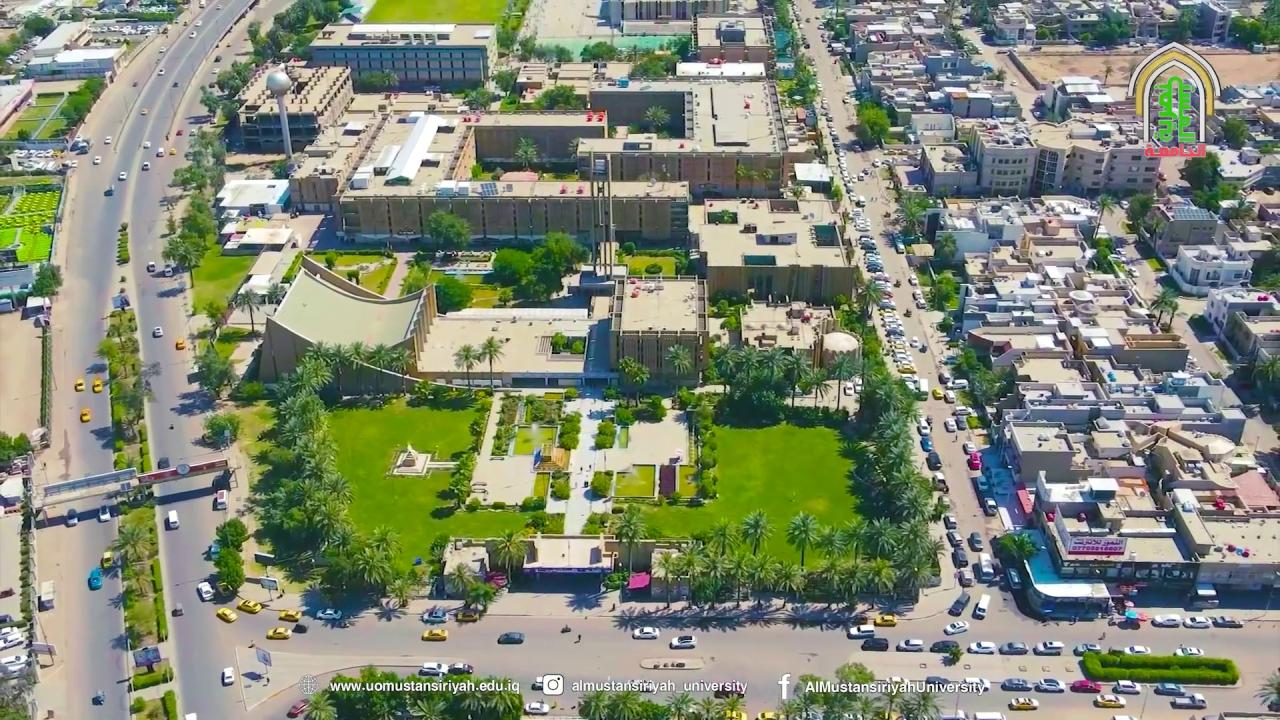car: (1170, 694, 1207, 710), (132, 646, 160, 667), (1093, 693, 1126, 709), (421, 607, 447, 625), (1035, 678, 1065, 693), (1007, 696, 1039, 710), (1070, 679, 1102, 693), (962, 677, 990, 693), (1033, 641, 1064, 655), (1210, 615, 1243, 628), (967, 640, 997, 654), (7, 456, 28, 476), (418, 662, 446, 677), (288, 699, 310, 718), (895, 638, 924, 652), (860, 637, 889, 651), (1112, 680, 1141, 694), (999, 641, 1028, 655), (930, 640, 959, 654), (1183, 615, 1212, 629), (1001, 678, 1032, 691), (455, 607, 480, 623), (196, 581, 215, 602), (846, 625, 874, 639), (237, 599, 263, 614), (1154, 683, 1186, 695), (497, 631, 524, 645), (316, 608, 343, 622), (1073, 643, 1102, 656), (943, 620, 968, 635), (669, 635, 697, 648), (524, 700, 550, 714), (421, 628, 447, 642), (1152, 615, 1182, 627), (387, 707, 417, 719), (632, 626, 659, 639), (87, 569, 103, 590), (1174, 646, 1204, 657), (213, 488, 228, 510), (874, 612, 897, 626), (217, 608, 237, 624), (164, 510, 179, 531), (447, 663, 473, 675), (266, 627, 291, 639), (924, 676, 949, 688), (279, 609, 301, 622), (220, 667, 234, 686), (983, 497, 997, 516), (259, 577, 278, 591), (1124, 644, 1150, 654), (97, 505, 111, 523), (65, 510, 78, 528), (208, 542, 220, 559), (34, 314, 49, 327), (91, 692, 105, 705), (80, 407, 91, 423), (172, 603, 184, 617), (532, 676, 544, 690), (152, 326, 164, 338), (92, 378, 102, 392), (74, 380, 85, 391), (175, 338, 185, 350), (155, 146, 165, 156), (146, 261, 155, 272), (118, 170, 127, 180), (92, 155, 100, 165), (104, 136, 111, 144), (140, 108, 147, 115)
fountain: (612, 460, 658, 500), (514, 420, 556, 452), (446, 264, 494, 276), (534, 471, 554, 499), (613, 420, 632, 446)
tree: (650, 508, 943, 611), (242, 388, 355, 582), (302, 663, 524, 719), (104, 511, 158, 712), (842, 409, 929, 523), (94, 308, 161, 445), (350, 524, 402, 607), (108, 522, 157, 596), (161, 229, 208, 288), (447, 562, 496, 618), (190, 339, 235, 399), (612, 502, 648, 574), (488, 529, 528, 587), (36, 321, 56, 431), (785, 510, 820, 570), (424, 208, 471, 251), (178, 193, 215, 244), (778, 349, 809, 408), (854, 100, 890, 148), (490, 248, 533, 288), (617, 355, 650, 407), (446, 450, 476, 507), (740, 508, 775, 556), (1251, 351, 1279, 409), (433, 274, 474, 313), (1182, 151, 1221, 192), (17, 530, 34, 624), (542, 229, 576, 275), (213, 547, 246, 593), (478, 336, 505, 392), (1148, 285, 1180, 331), (798, 366, 832, 409), (896, 192, 928, 237), (385, 568, 421, 608), (773, 560, 805, 605), (711, 342, 738, 395), (996, 530, 1038, 564), (428, 533, 450, 597), (734, 162, 772, 199), (970, 366, 1005, 406), (532, 82, 580, 111), (202, 412, 242, 446), (706, 516, 739, 557), (452, 343, 482, 388), (447, 561, 476, 607), (214, 516, 250, 553), (1090, 192, 1115, 243), (398, 258, 431, 296), (234, 287, 261, 333), (834, 660, 875, 690), (29, 262, 62, 299), (928, 271, 957, 312), (593, 419, 616, 470), (854, 278, 882, 319), (303, 688, 338, 720), (1127, 191, 1153, 232), (556, 410, 582, 451), (957, 346, 982, 388), (202, 298, 225, 343), (463, 581, 496, 612), (663, 342, 693, 375), (1220, 114, 1248, 149), (490, 415, 514, 455), (513, 135, 538, 171), (642, 103, 670, 133), (135, 426, 152, 474), (1174, 8, 1196, 43), (934, 231, 958, 263), (809, 128, 828, 164), (115, 222, 129, 266), (828, 177, 844, 212), (590, 471, 611, 496), (550, 331, 567, 354), (323, 249, 341, 270)
